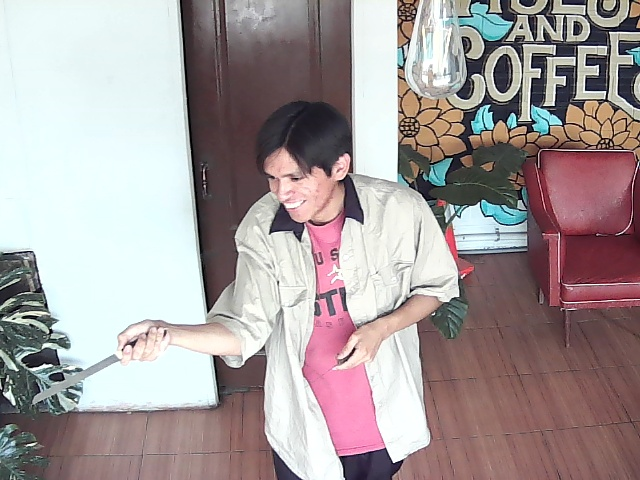cuchillo: (31, 307, 167, 410)
